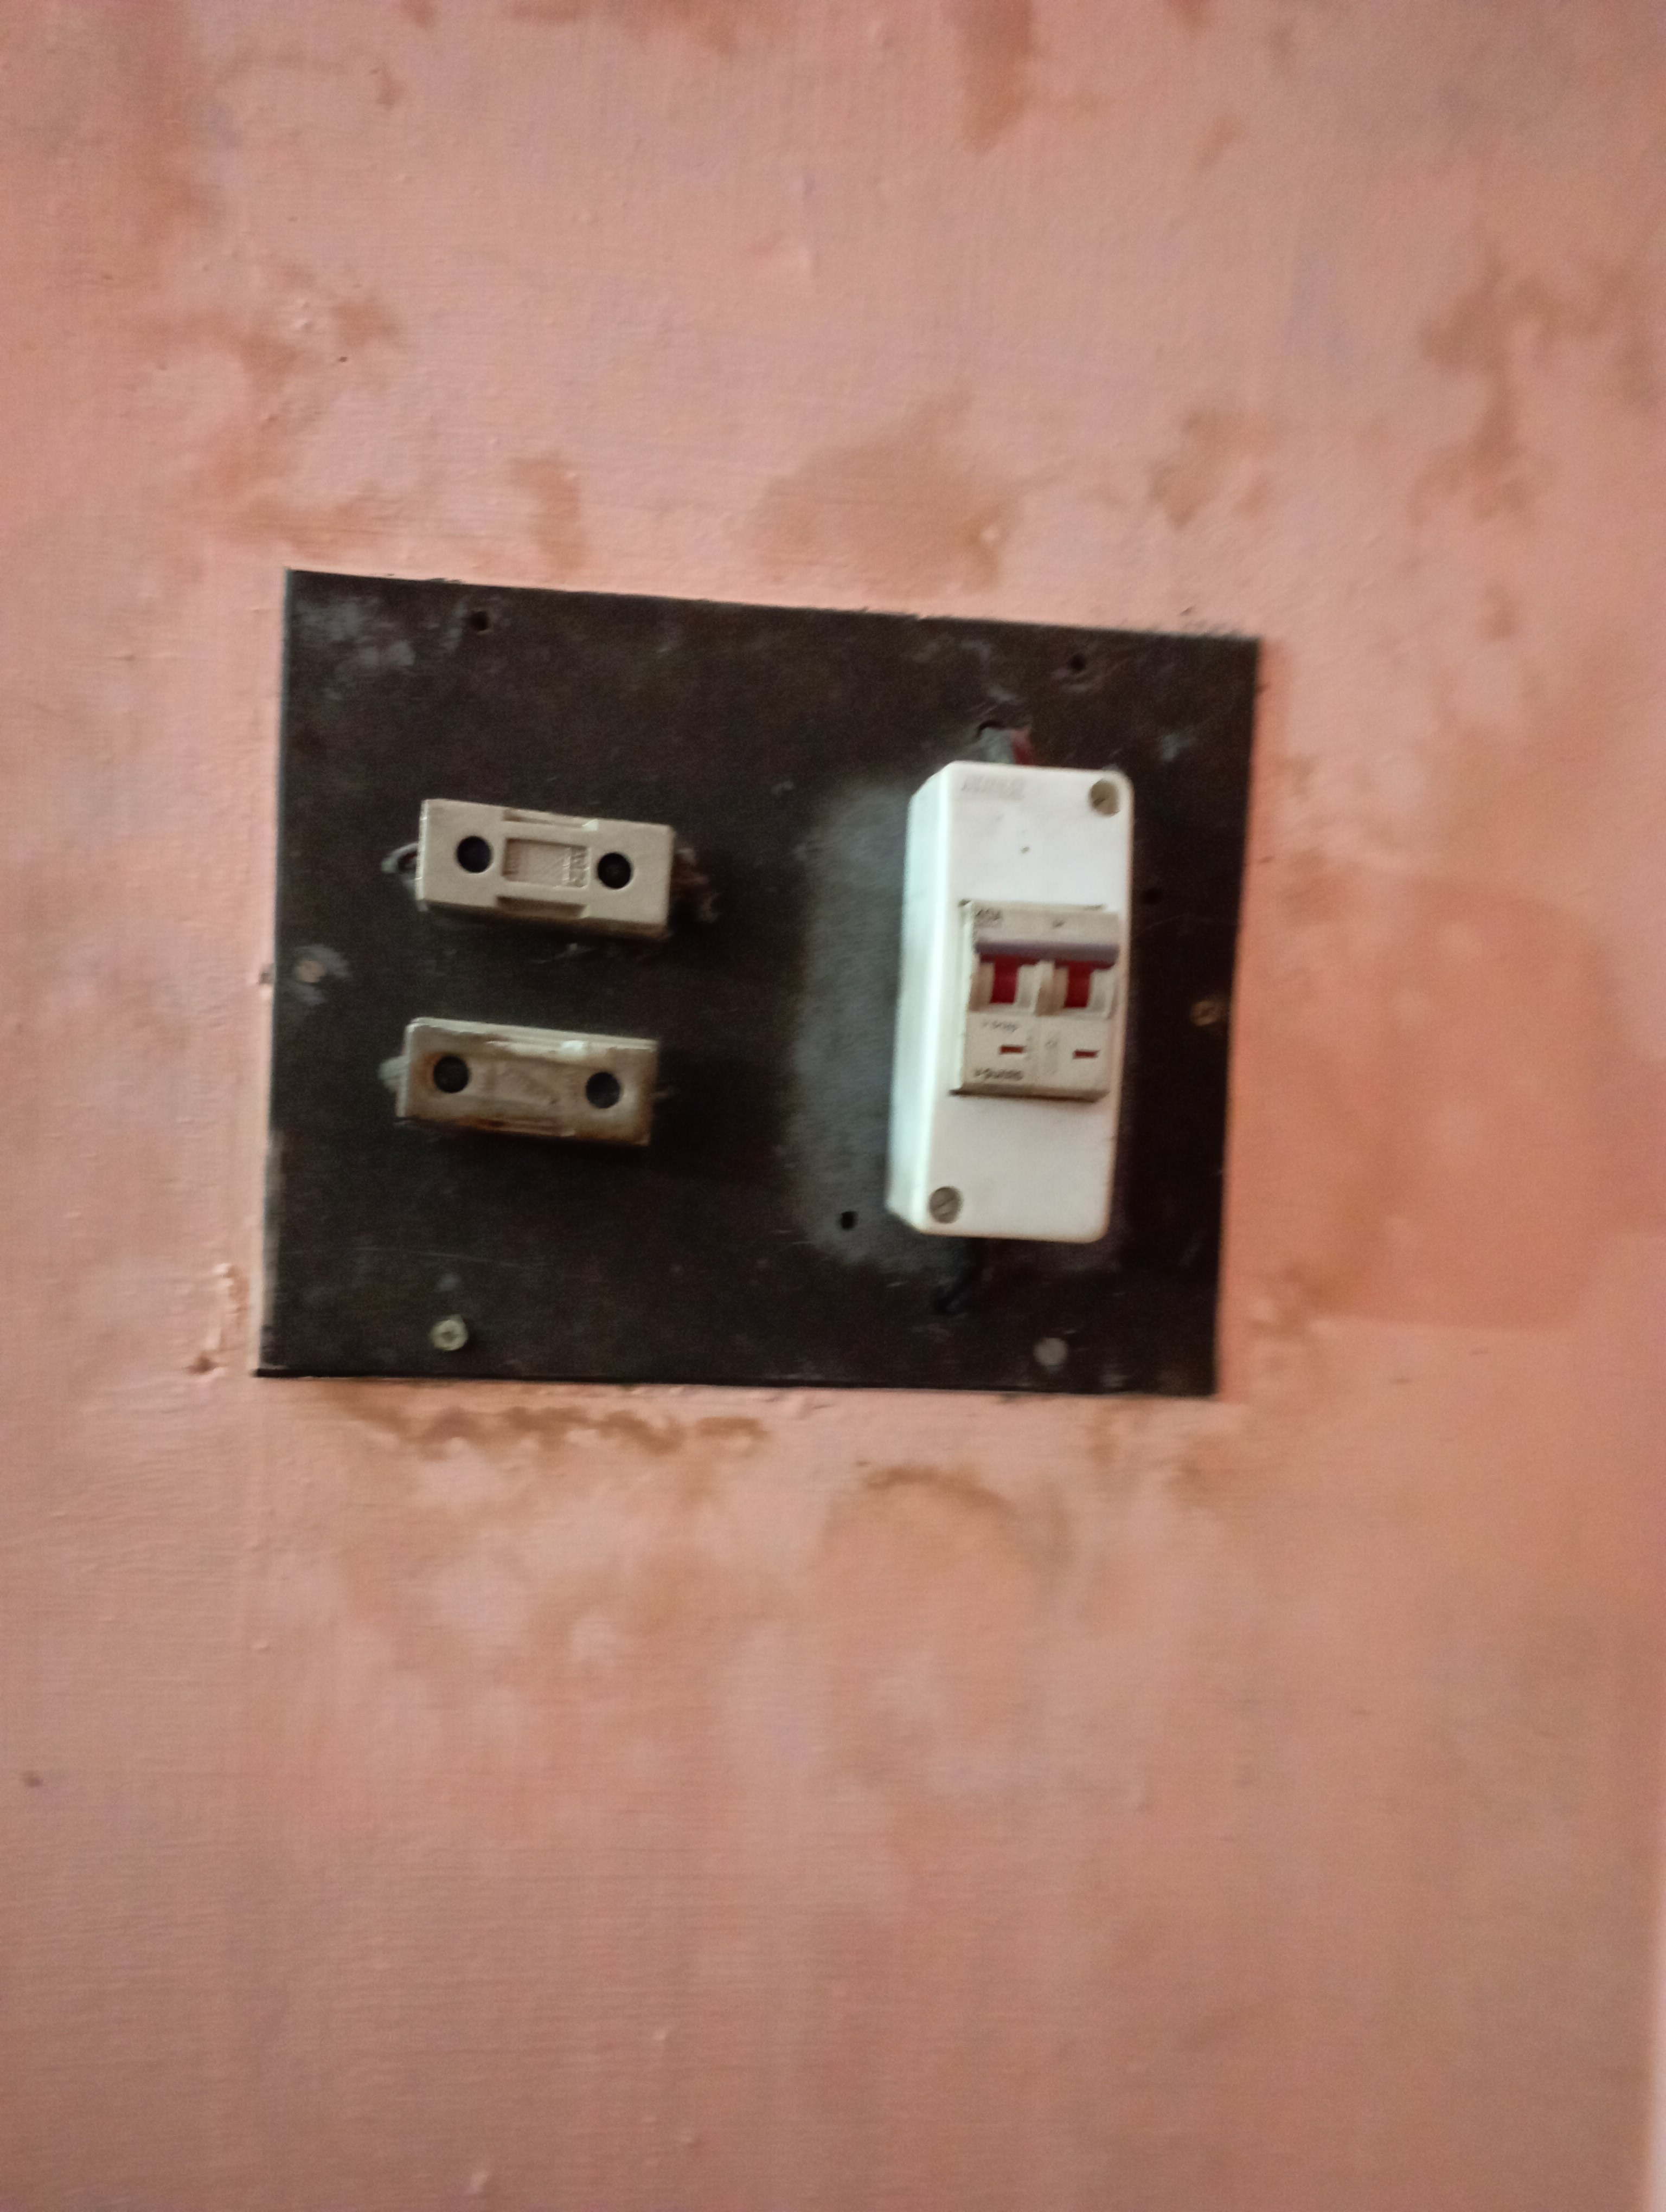ciruit_breaker: (877, 780, 1172, 1256)
fuse: (380, 991, 679, 1154), (389, 780, 688, 934)
